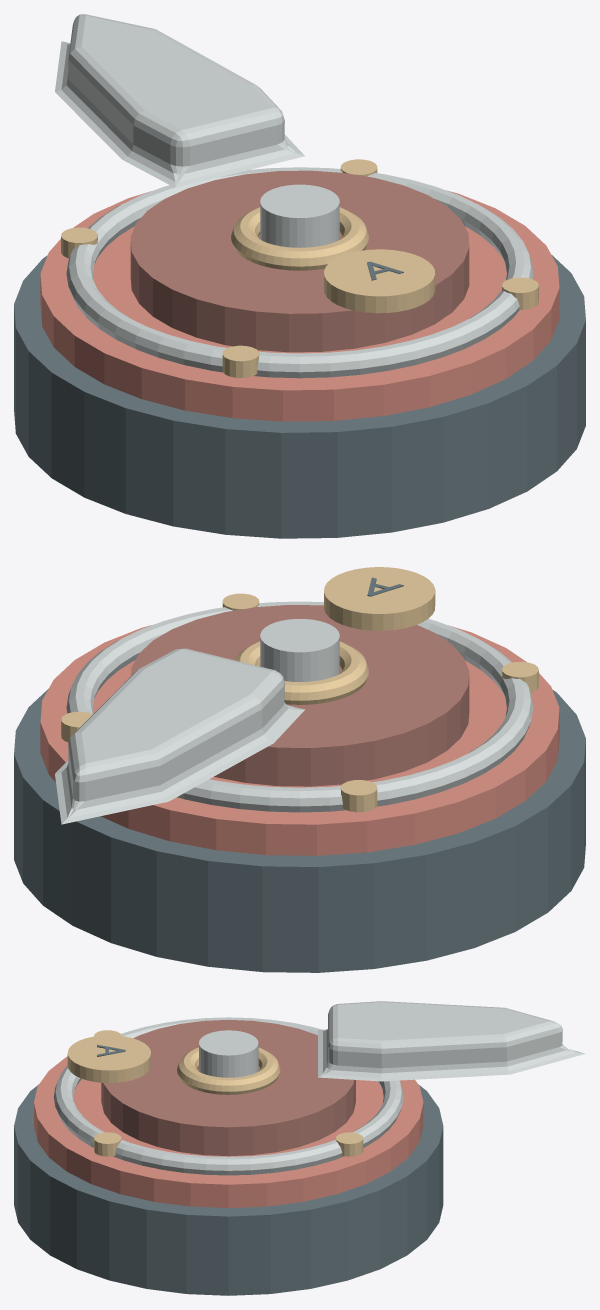
The model's file is diverter_module.glb.
3 renders of one model, top to bottom at view 1: azimuth 30°, elevation 25°; view 2: azimuth 150°, elevation 25°; view 3: azimuth 270°, elevation 25°, orthographic. The views are drawn at different scales.
Visible parts, largest first — view 1: ASSET_DIVERTER_BaseFoot, ASSET_DIVERTER_RotatingPlate, ASSET_DIVERTER_BasePaint, ASSET_DIVERTER_RoutingArm, ASSET_DIVERTER_OuterRing, ASSET_DIVERTER_GroupBadge, ASSET_DIVERTER_PivotPin, ASSET_DIVERTER_PivotRing, ASSET_DIVERTER_Fastener_180, ASSET_DIVERTER_Fastener_270, ASSET_DIVERTER_Fastener_90; view 2: ASSET_DIVERTER_BaseFoot, ASSET_DIVERTER_BasePaint, ASSET_DIVERTER_RotatingPlate, ASSET_DIVERTER_RoutingArm, ASSET_DIVERTER_OuterRing, ASSET_DIVERTER_GroupBadge, ASSET_DIVERTER_PivotPin, ASSET_DIVERTER_PivotRing, ASSET_DIVERTER_Fastener_90, ASSET_DIVERTER_Fastener_180, ASSET_DIVERTER_Fastener_0, ASSET_DIVERTER_Fastener_270; view 3: ASSET_DIVERTER_BaseFoot, ASSET_DIVERTER_RotatingPlate, ASSET_DIVERTER_BasePaint, ASSET_DIVERTER_RoutingArm, ASSET_DIVERTER_OuterRing, ASSET_DIVERTER_GroupBadge, ASSET_DIVERTER_PivotPin, ASSET_DIVERTER_PivotRing, ASSET_DIVERTER_Fastener_0, ASSET_DIVERTER_Fastener_270.
Part boxes in pixels (bbox=[...]): ASSET_DIVERTER_BaseFoot: bbox=[14, 255, 585, 538]; ASSET_DIVERTER_RotatingPlate: bbox=[130, 170, 469, 352]; ASSET_DIVERTER_BasePaint: bbox=[40, 190, 559, 421]; ASSET_DIVERTER_RoutingArm: bbox=[55, 14, 304, 187]; ASSET_DIVERTER_OuterRing: bbox=[66, 167, 533, 378]; ASSET_DIVERTER_GroupBadge: bbox=[324, 249, 435, 313]; ASSET_DIVERTER_PivotPin: bbox=[260, 184, 339, 247]; ASSET_DIVERTER_PivotRing: bbox=[231, 207, 368, 270]; ASSET_DIVERTER_Fastener_180: bbox=[222, 345, 259, 377]; ASSET_DIVERTER_Fastener_270: bbox=[502, 277, 538, 309]; ASSET_DIVERTER_Fastener_90: bbox=[61, 227, 97, 258]; ASSET_DIVERTER_BaseFoot: bbox=[14, 688, 585, 972]; ASSET_DIVERTER_BasePaint: bbox=[40, 625, 559, 855]; ASSET_DIVERTER_RotatingPlate: bbox=[131, 605, 469, 786]; ASSET_DIVERTER_RoutingArm: bbox=[55, 648, 304, 824]; ASSET_DIVERTER_OuterRing: bbox=[66, 601, 533, 812]; ASSET_DIVERTER_GroupBadge: bbox=[324, 567, 435, 630]; ASSET_DIVERTER_PivotPin: bbox=[260, 618, 339, 681]; ASSET_DIVERTER_PivotRing: bbox=[234, 641, 368, 704]; ASSET_DIVERTER_Fastener_90: bbox=[340, 780, 377, 812]; ASSET_DIVERTER_Fastener_180: bbox=[502, 661, 538, 692]; ASSET_DIVERTER_Fastener_0: bbox=[61, 711, 92, 742]; ASSET_DIVERTER_Fastener_270: bbox=[222, 593, 259, 610]; ASSET_DIVERTER_BaseFoot: bbox=[14, 1084, 443, 1295]; ASSET_DIVERTER_RotatingPlate: bbox=[101, 1020, 355, 1156]; ASSET_DIVERTER_BasePaint: bbox=[34, 1033, 423, 1208]; ASSET_DIVERTER_RoutingArm: bbox=[318, 1001, 585, 1081]; ASSET_DIVERTER_OuterRing: bbox=[53, 1017, 403, 1175]; ASSET_DIVERTER_GroupBadge: bbox=[67, 1035, 150, 1082]; ASSET_DIVERTER_PivotPin: bbox=[199, 1030, 258, 1077]; ASSET_DIVERTER_PivotRing: bbox=[177, 1047, 280, 1094]; ASSET_DIVERTER_Fastener_0: bbox=[335, 1132, 363, 1156]; ASSET_DIVERTER_Fastener_270: bbox=[94, 1132, 121, 1156].
Bounding box in the file's own units: 1.08 × 0.51 × 1.44.
